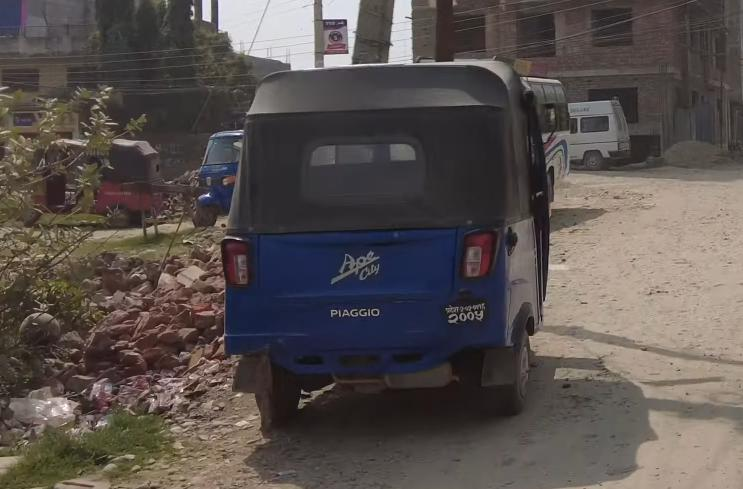auto_rickshaw: (213, 52, 564, 431), (18, 130, 166, 229), (191, 126, 248, 230)
micro_bus: (564, 97, 635, 178)
